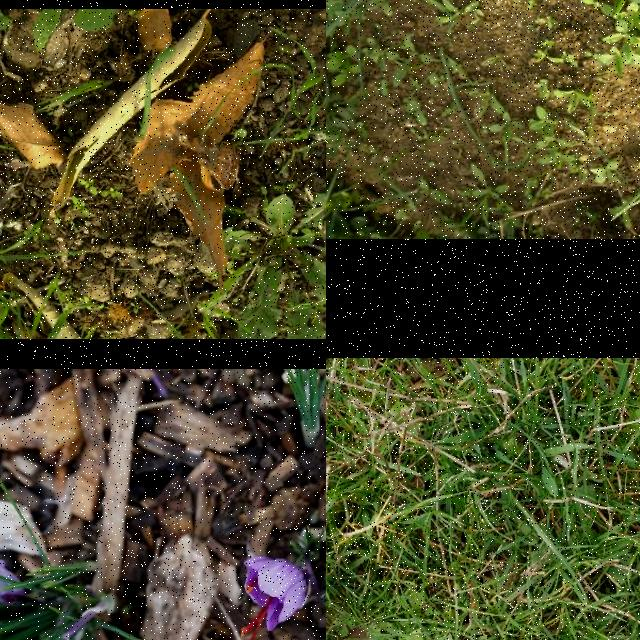flower: (241, 556, 309, 640), (0, 559, 26, 601)
